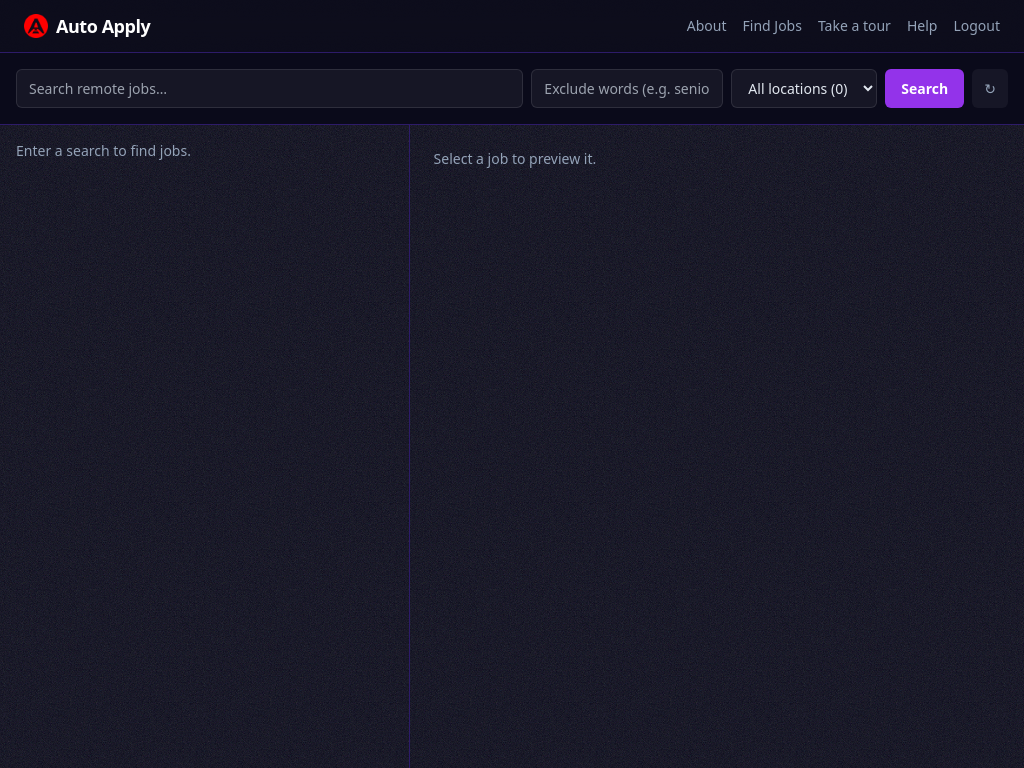
Scenario: renders candidate cards after searching
The image size is (1024, 768).
Type "python" into the field with placeholder "Search remote jobs…" at (270, 88), box [16,69,523,108]
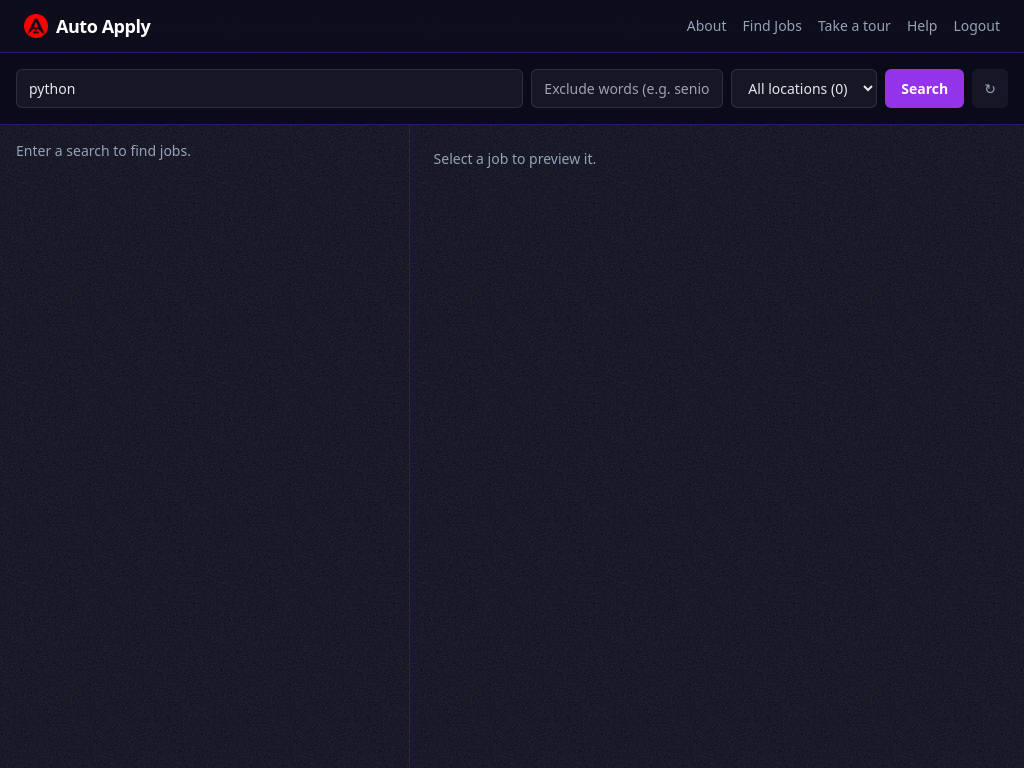
Click the button "Search" at (925, 88), box [885,69,964,108]
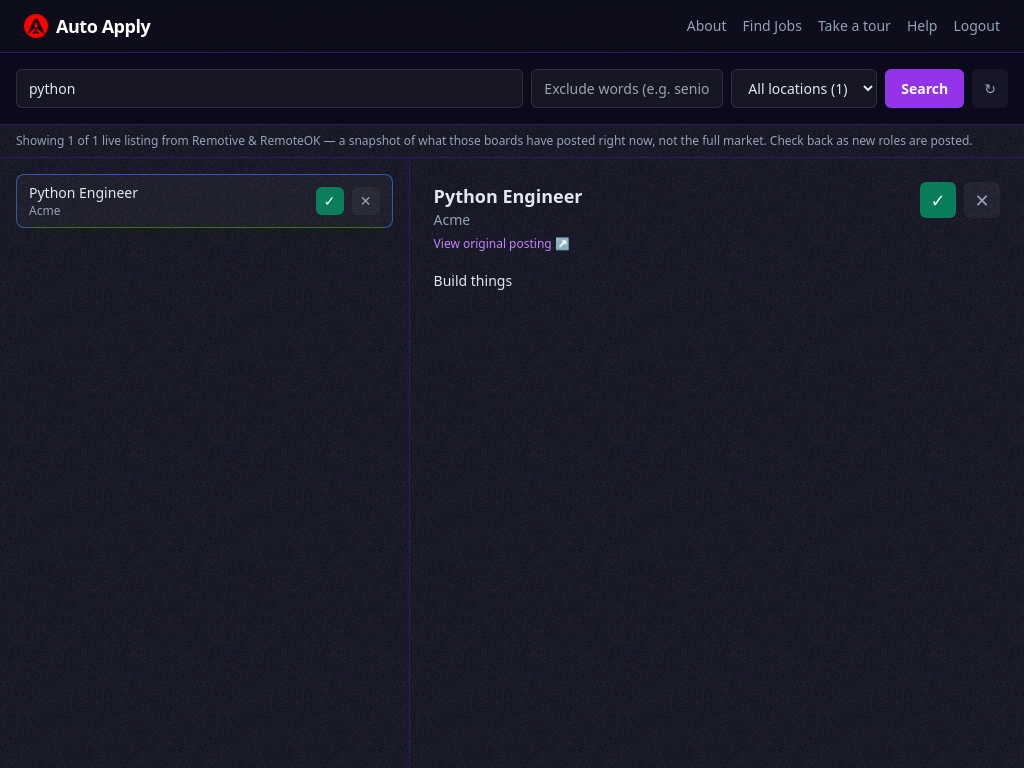
Check: the text "Python Engineer" is shown, box [29,183,138,203]
